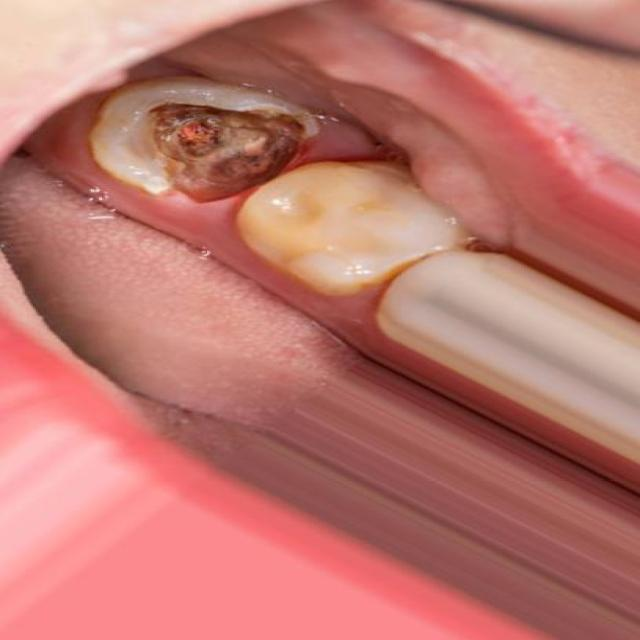caries: (116, 91, 331, 208)
